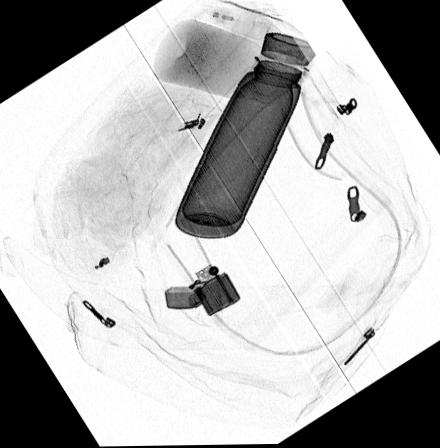Lighter: (164, 261, 242, 317)
